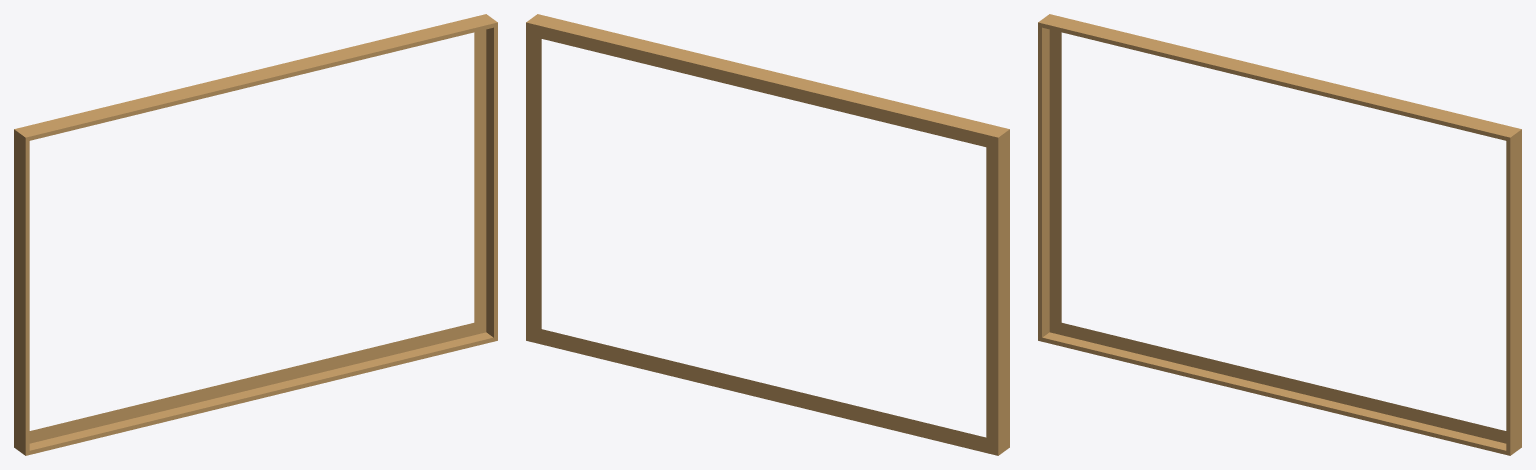
The model's file is original-2.obj.
3 renders of one model, left to right at view 1: azimuth 30°, elevation 25°; view 2: azimuth 150°, elevation 25°; view 3: azimuth 330°, elevation 25°, orthographic.
Visible parts, largest first — view 1: #ID11; view 2: #ID11; view 3: #ID11.
Part boxes in pixels (x1=…): #ID11: x1=14, y1=14, x2=497, y2=455; #ID11: x1=526, y1=14, x2=1009, y2=455; #ID11: x1=1038, y1=14, x2=1521, y2=455.
Size of the model in its own units: 1.69 by 1.09 by 0.0715.
